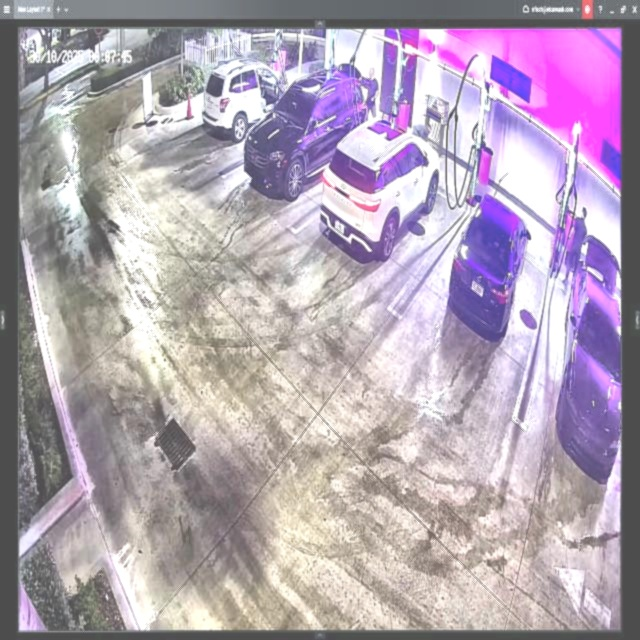Car: (320, 116, 440, 262), (244, 73, 369, 189), (449, 194, 530, 340)
